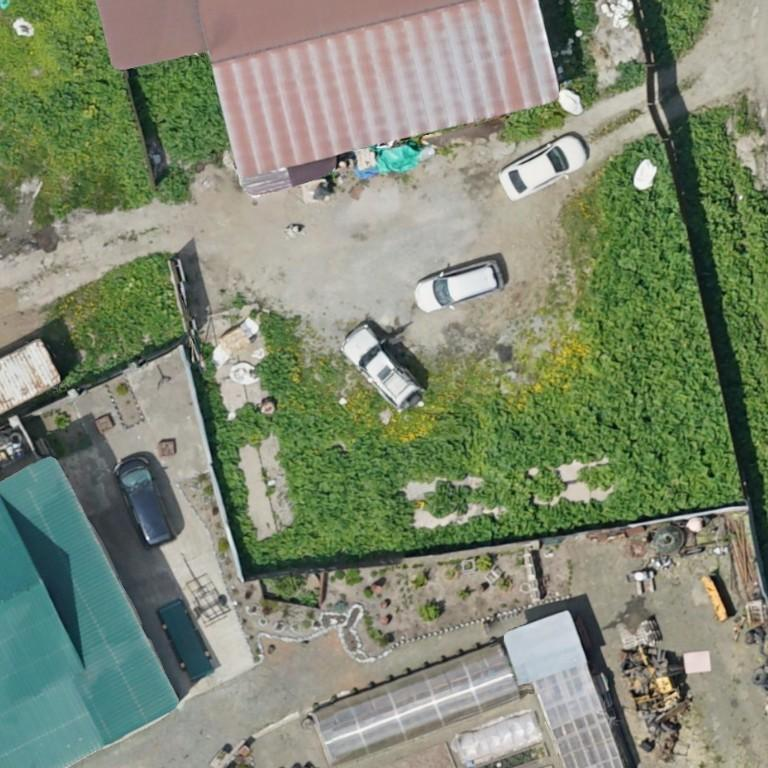hogweed: (195, 137, 744, 577), (670, 109, 767, 581), (132, 56, 228, 161), (26, 80, 123, 150), (113, 99, 152, 203), (644, 0, 708, 59), (255, 351, 297, 400), (158, 169, 191, 201)
